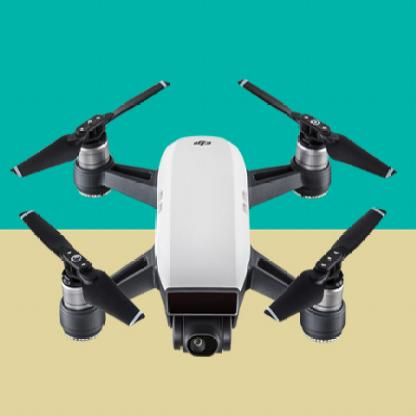drone: (5, 67, 400, 361)
